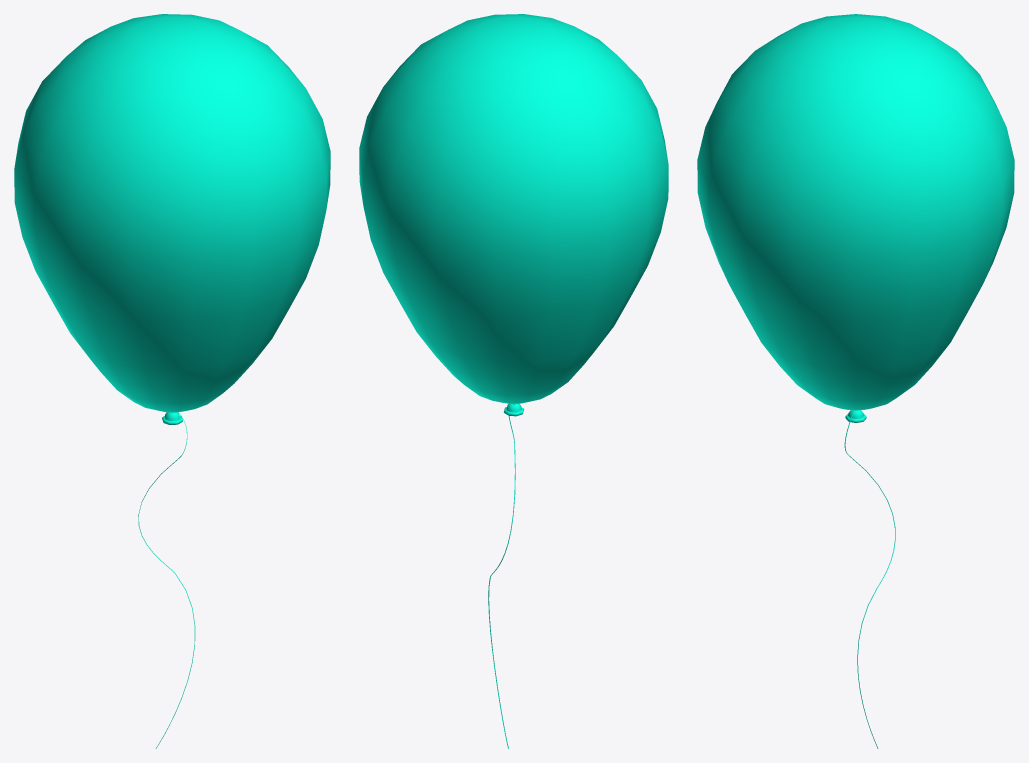
File: lightblue_balloon.fbx
The picture shows the model from 3 angles, left to right: view 1: azimuth 30°, elevation 25°; view 2: azimuth 150°, elevation 25°; view 3: azimuth 270°, elevation 25°; orthographic projection. The views are drawn at different scales.
Parts seen in each view (by area): view 1: Balloon.007; view 2: Balloon.007; view 3: Balloon.007.
Boxes of the visible parts, bbox=[...] form: Balloon.007: bbox=[14, 14, 330, 748]; Balloon.007: bbox=[359, 14, 668, 748]; Balloon.007: bbox=[697, 14, 1014, 748].
Size of the model in its own units: 26.48 by 66.4 by 26.48.
